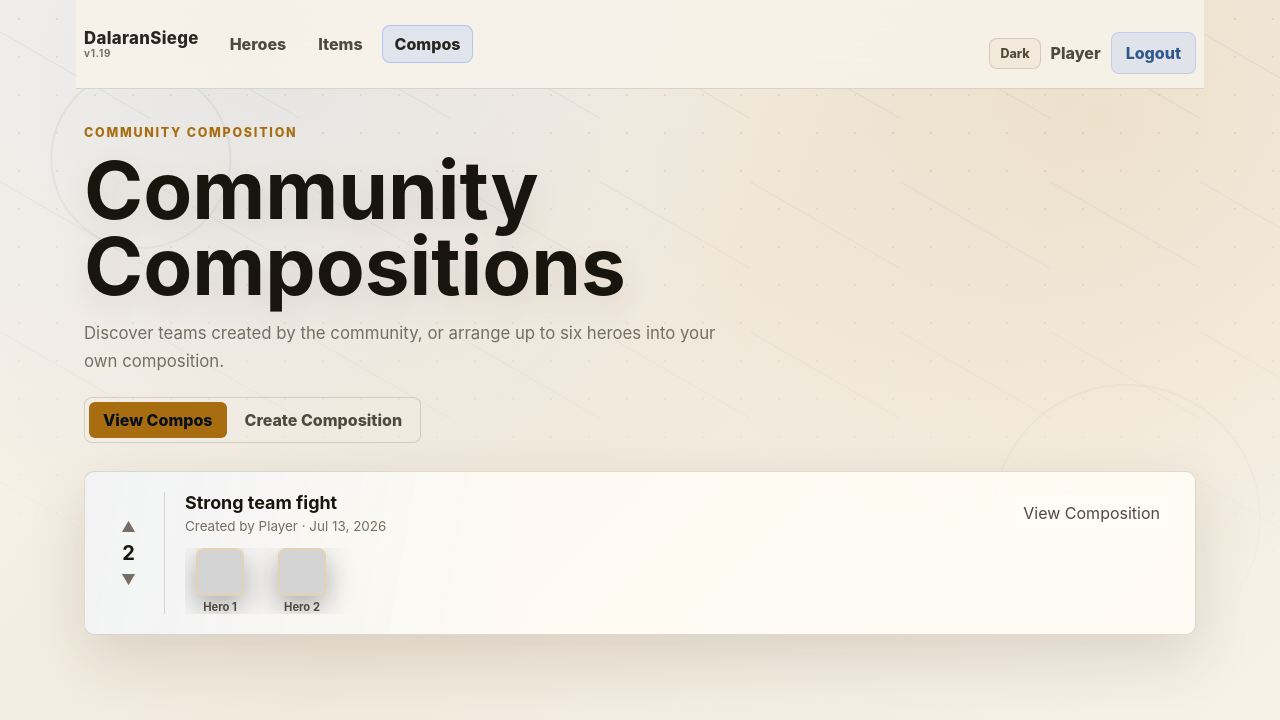
Test: CompositionListComponent › shows the creation form instead of the guest message to authenticated users
Click the button "Create Composition". click: click(323, 420)
box: [230,402,416,438]
(page scrolled)
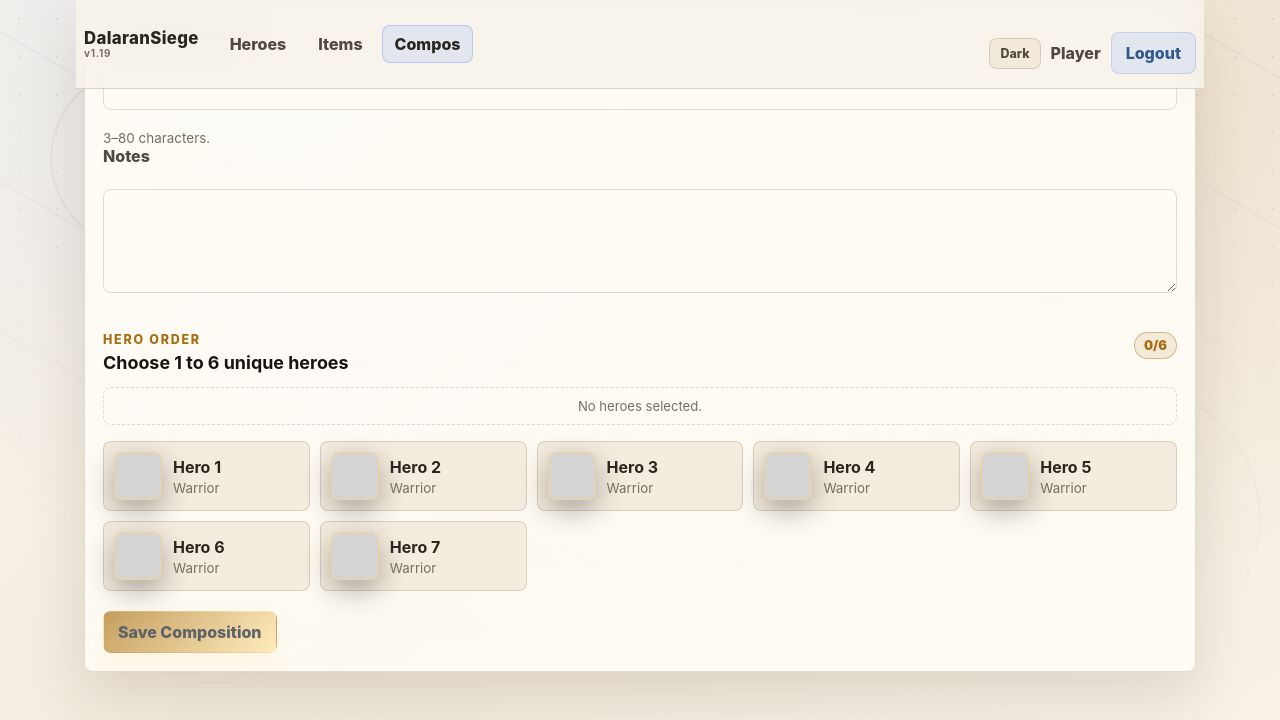
Check: the field with id "composition-name" is shown, box [103,66,1177,110]
Check: the element with class "composition-hero-picker" is shown, box [103,441,1177,591]
